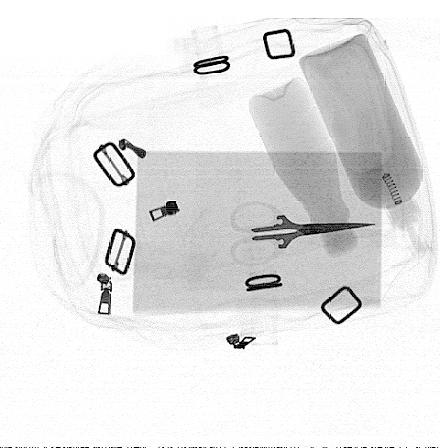Scissors: (230, 200, 377, 268)
